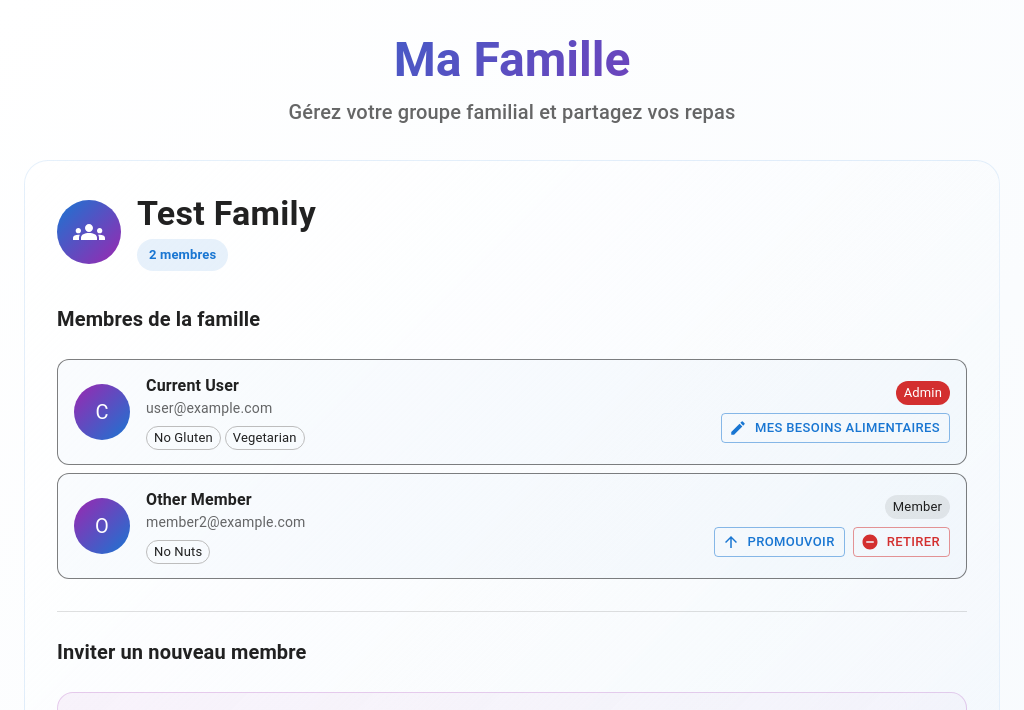
FamilyPage - Dietary Restrictions › Edit Dialog Functionality - Add › dialog opens on edit click, and a new restriction can be added
Check: the text "No Gluten" is shown, box x1=154 y1=430 x2=213 y2=445
Click the button "Mes Besoins Alimentaires" at (836, 428), box x1=721 y1=413 x2=950 y2=443
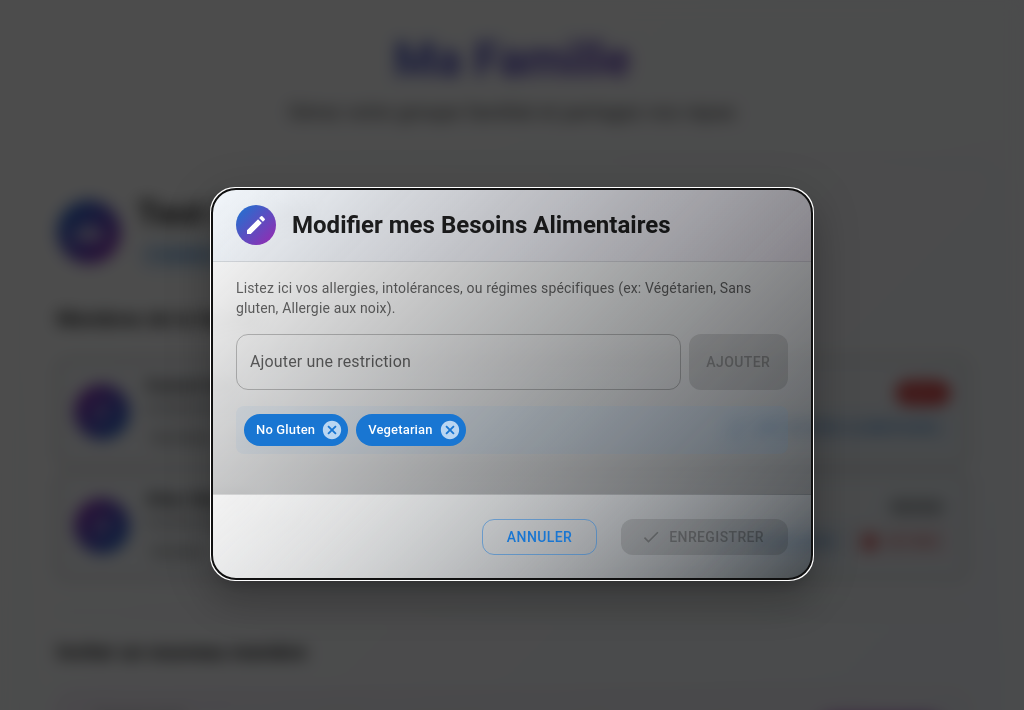
Check: the dialog "Modifier mes Besoins Alimentaires" is shown, box x1=212 y1=189 x2=812 y2=579
Type "Vegan" into the field labelled "Ajouter une restriction" at (458, 362), box x1=236 y1=334 x2=681 y2=390
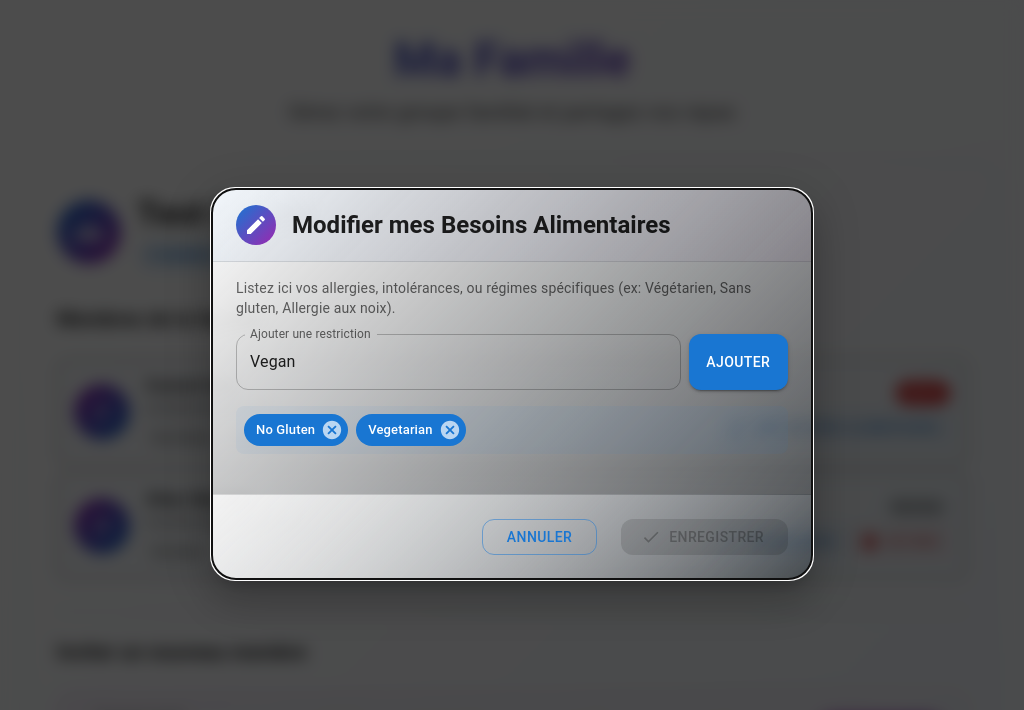
Click the button "Ajouter" at (738, 362), box x1=689 y1=334 x2=788 y2=390
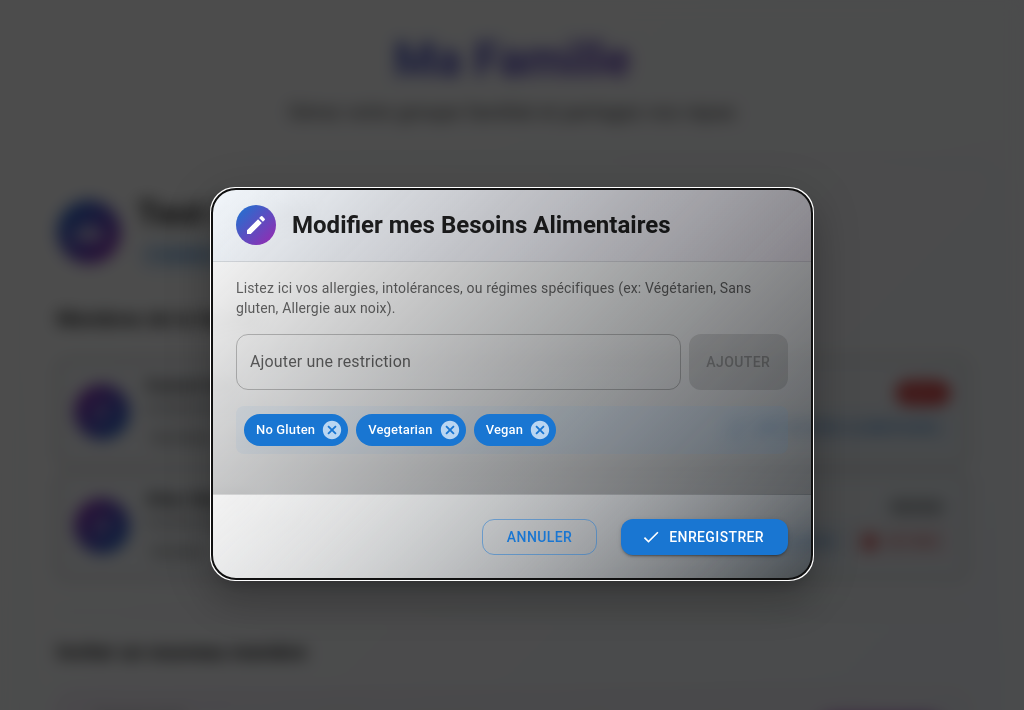
Check: the dialog "Modifier mes Besoins Alimentaires" shows "No Gluten", box x1=256 y1=422 x2=315 y2=437
Check: the dialog "Modifier mes Besoins Alimentaires" shows "Vegetarian", box x1=368 y1=422 x2=433 y2=437
Check: the dialog "Modifier mes Besoins Alimentaires" shows "Vegan", box x1=486 y1=422 x2=523 y2=437
